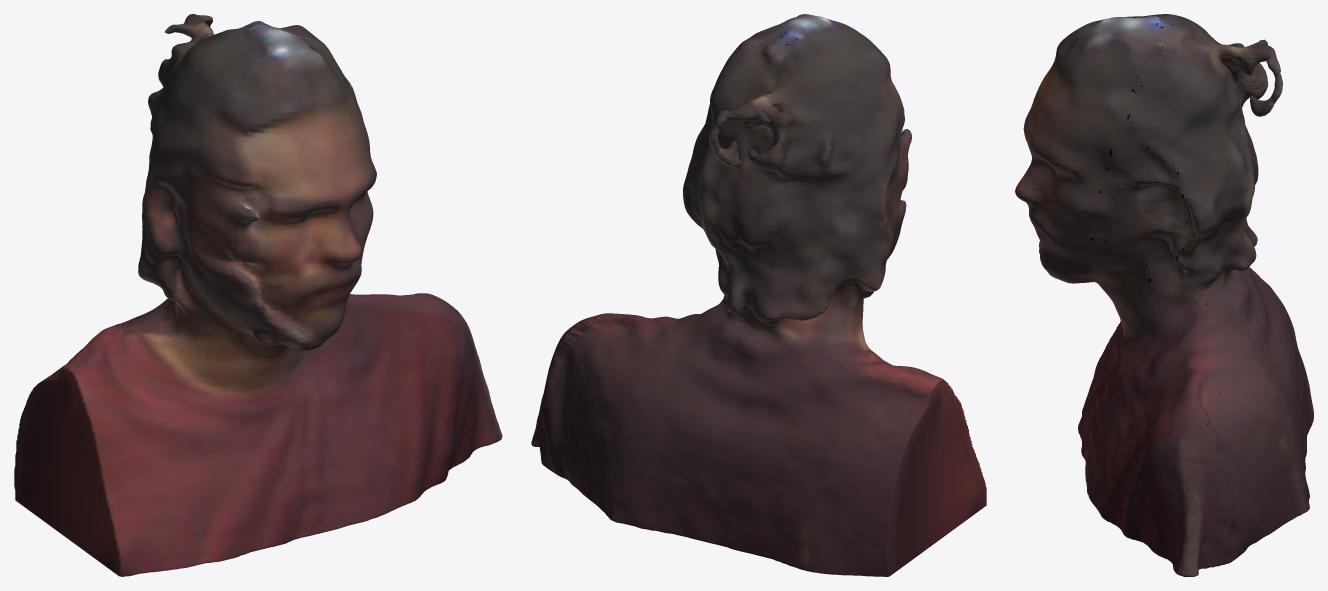
Rendered from Playermodell_0027.fbx.
The picture shows the model from 3 angles, left to right: view 1: azimuth 30°, elevation 25°; view 2: azimuth 150°, elevation 25°; view 3: azimuth 270°, elevation 25°; orthographic projection. The views are drawn at different scales.
Parts seen in each view (by area): view 1: bustsev; view 2: bustsev; view 3: bustsev.
Part boxes in pixels (x1,y1,x2,y2): bustsev: (14, 14, 502, 576); bustsev: (531, 14, 986, 576); bustsev: (1015, 14, 1313, 576).
Bounding box in the file's own units: 353 × 380 × 231.
1 material, 1 textured.
